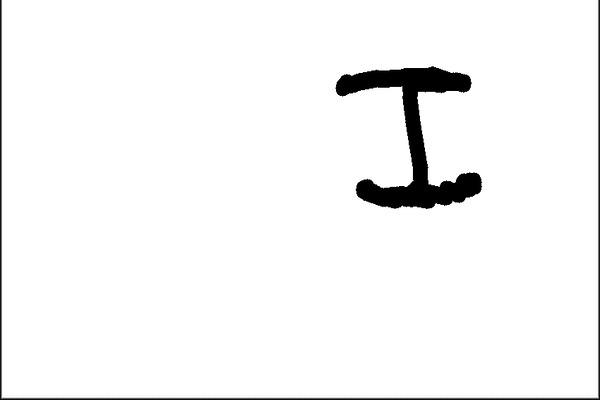i: (320, 54, 502, 222)
